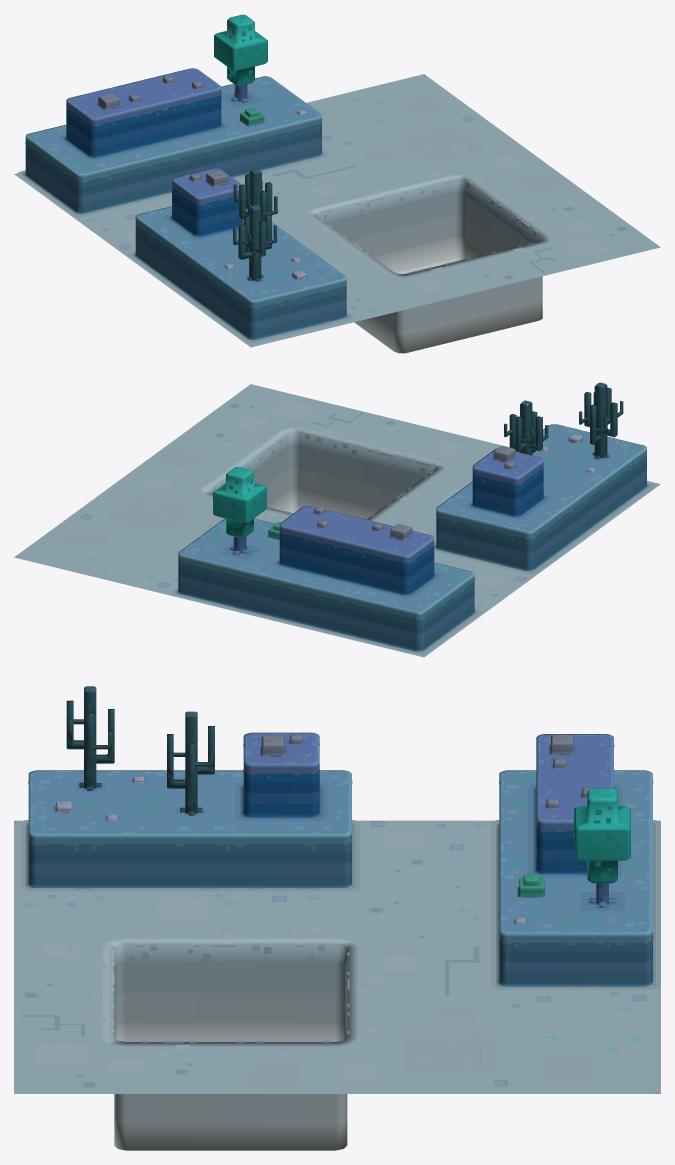
File: C_mountain2_06.fbx
3 renders of one model, top to bottom at view 1: azimuth 30°, elevation 25°; view 2: azimuth 150°, elevation 25°; view 3: azimuth 270°, elevation 25°, orthographic. The views are drawn at different scales.
Parts seen in each view (by area): view 1: C_mountain2_06; view 2: C_mountain2_06; view 3: C_mountain2_06.
Boxes of the visible parts, x1,y1,x2,y2 form: C_mountain2_06: (14, 14, 660, 353); C_mountain2_06: (14, 382, 660, 657); C_mountain2_06: (14, 686, 660, 1150).
Bounding box in the file's own units: 50 × 23.26 × 50.
